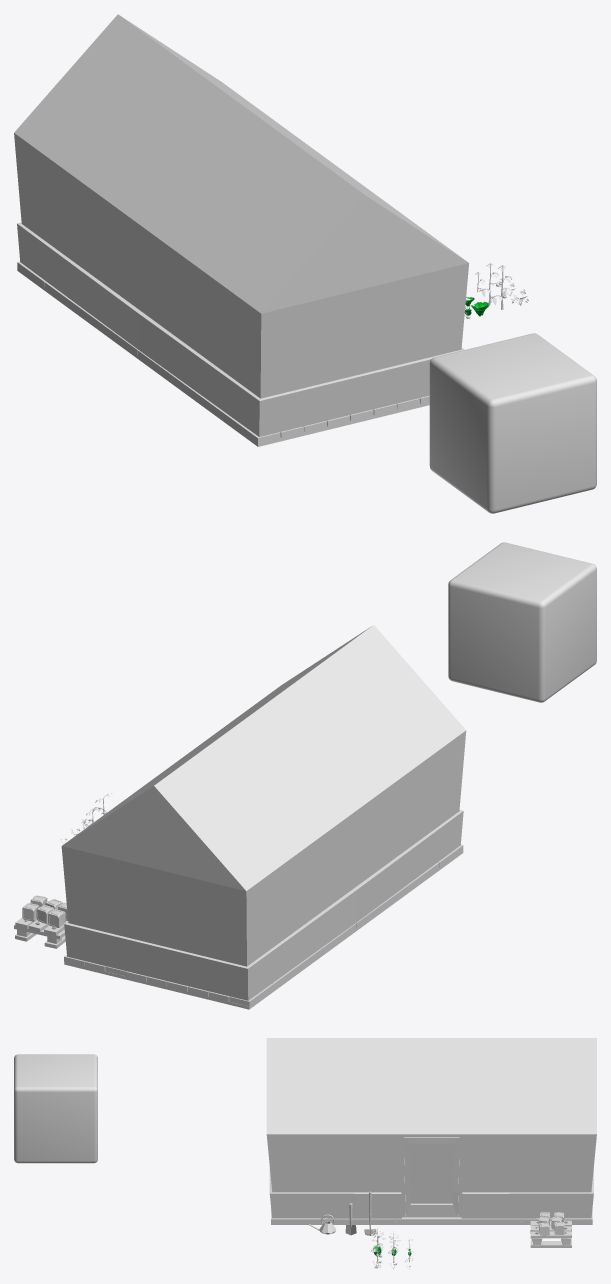
Rendered from Props_Minijuego_SERGIO_PRUEBA 1.fbx.
3 renders of one model, top to bottom at view 1: azimuth 30°, elevation 25°; view 2: azimuth 150°, elevation 25°; view 3: azimuth 270°, elevation 25°, orthographic. The views are drawn at different scales.
Parts seen in each view (by area): view 1: Cristales, Estructura, CUBO_PRUEBAS, Suelo_Tablones, Base_Cemento; view 2: Cristales, Estructura, CUBO_PRUEBAS, Suelo_Tablones, Base_Cemento, Cube.013; view 3: Cristales, Estructura, CUBO_PRUEBAS, Cristal_Puerta, Suelo_Tablones, Cube.013, Base_Cemento.
Part boxes in pixels (x1,y1,x2,y2): Cristales: (20,24,460,388); Estructura: (14,14,469,436); CUBO_PRUEBAS: (429,333,596,513); Suelo_Tablones: (17,261,429,443); Base_Cemento: (17,268,429,446); Cristales: (69,633,460,957); Estructura: (61,625,466,1000); CUBO_PRUEBAS: (448,542,596,702); Suelo_Tablones: (64,844,463,1006); Base_Cemento: (64,850,463,1009); Cube.013: (14,917,67,948); Cristales: (273,1044,589,1186); Estructura: (266,1038,596,1220); CUBO_PRUEBAS: (14,1054,97,1163); Cristal_Puerta: (404,1137,459,1217); Suelo_Tablones: (271,1158,592,1222); Cube.013: (530,1220,571,1247); Base_Cemento: (271,1221,592,1224).
Size of what is drawn, in the model's own units: 642 by 403 by 1387.
Materials: 29 (2 with a texture image).
